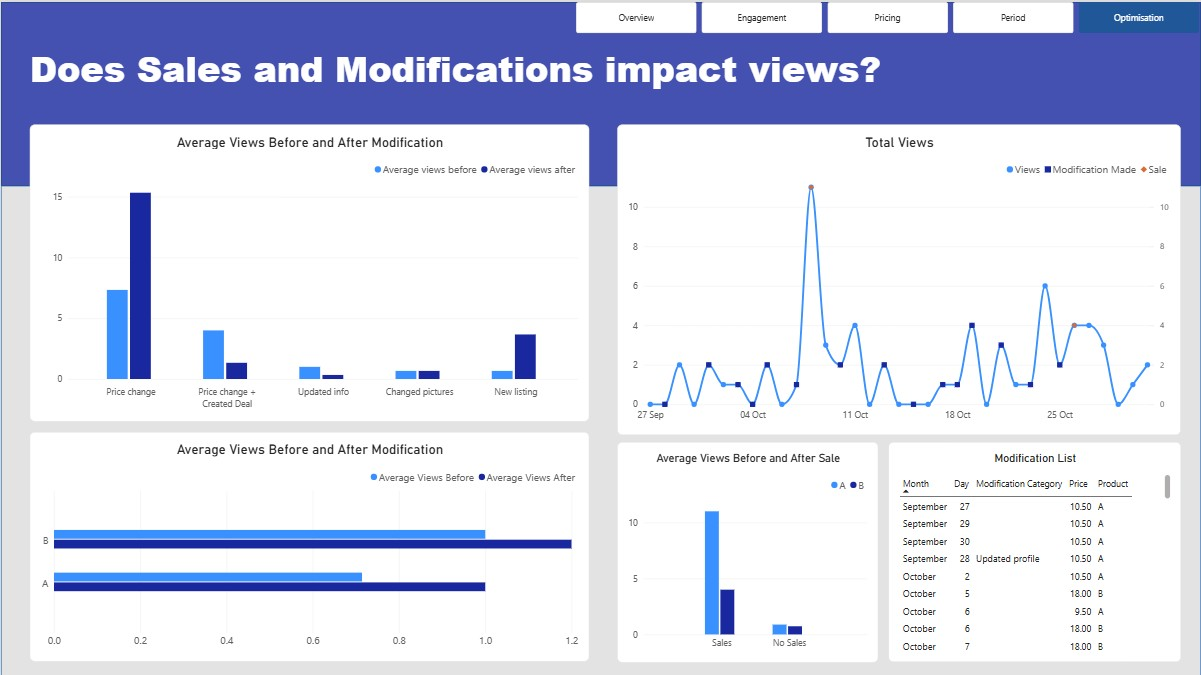

This screenshot's page, from the dashboard's own definition file:
{"tool":"powerbi","page":{"name":"Optimisation","canvas":[1920,1080],"ordinal":4},"visuals":[{"type":"shape","box":[0,293.2,1920,786.8],"z":0},{"type":"shape","box":[0,0,1920,294.3],"z":1000},{"type":"clusteredColumnChart","title":"Average Views Before and After Sale","fields":{"Category":["Query5.sales_status"],"Series":["Query5.product"],"Y":["Sum(Query5.avg_views)"]},"box":[985,703.3,417.4,352.7],"z":2000},{"type":"lineChart","title":"Total Views","fields":{"Category":["Query6.date"],"Y":["Query6.Total Views (Query 6)"],"Y2":["Query6.Modification Marker","Query6.Sale Marker"]},"box":[985,196.2,901.6,496.7],"z":3000},{"type":"clusteredBarChart","title":"Average Views Before and After Modification","fields":{"Category":["7_days_before_and_after_sales.product"],"Y":["Sum(7_days_before_and_after_sales.avg_views_before)","Sum(7_days_before_and_after_sales.avg_views_after)"]},"box":[45,687.5,895,367.5],"z":4000},{"type":"clusteredColumnChart","title":"Average Views Before and After Modification","fields":{"Category":["7_days_before_and_after_modification.modification_type"],"Y":["Sum(7_days_before_and_after_modification.avg_views_before)","Sum(7_days_before_and_after_modification.avg_views_after)"]},"box":[45,195,895,475],"z":5000},{"type":"textbox","box":[45,65,1610,97.5],"z":6000},{"type":"pageNavigator","box":[920,0,1000,50],"z":7000},{"type":"tableEx","title":"Modification List","fields":{"Values":["Query6.date.Variation.Date Hierarchy.Month","Query6.date.Variation.Date Hierarchy.Day","Query6.modification_category","Query6.price","Query6.product"]},"box":[1420,704,468,352],"z":8000}]}

Visuals, with their boxes in screenshot pixels (x1, y1, x2, y2), scaled from the page's 1920x1080 canvas onto the 1201x675 screenshot:
shape: <box>0,183,1200,674</box>
shape: <box>0,0,1200,184</box>
"Average Views Before and After Sale" clusteredColumnChart: <box>616,440,877,660</box>
"Total Views" lineChart: <box>616,123,1180,433</box>
"Average Views Before and After Modification" clusteredBarChart: <box>28,430,588,659</box>
"Average Views Before and After Modification" clusteredColumnChart: <box>28,122,588,419</box>
textbox: <box>28,41,1035,102</box>
pageNavigator: <box>575,0,1200,31</box>
"Modification List" tableEx: <box>888,440,1181,660</box>
